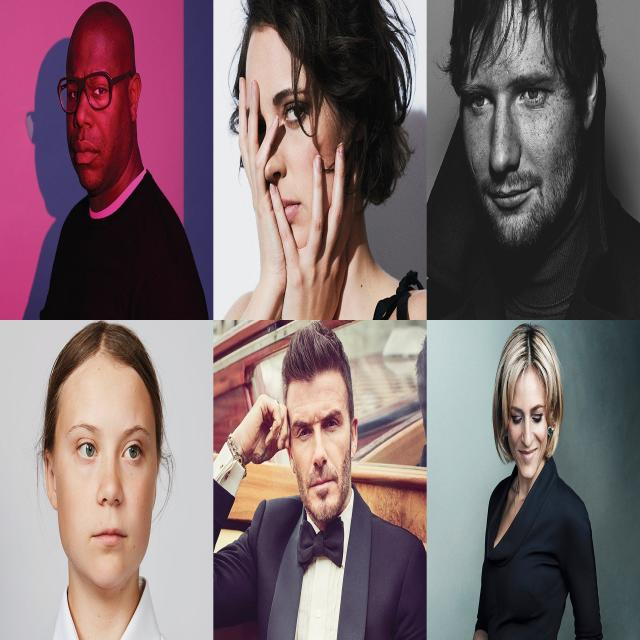adult: (213, 323, 428, 640), (431, 0, 640, 317), (222, 0, 426, 321), (39, 1, 209, 319), (32, 320, 176, 640), (463, 316, 604, 640)
